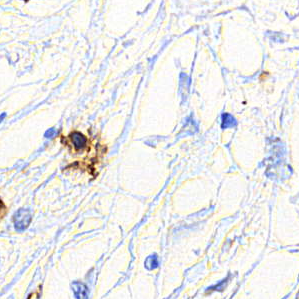Lymphocyte: (63, 130, 90, 154)
